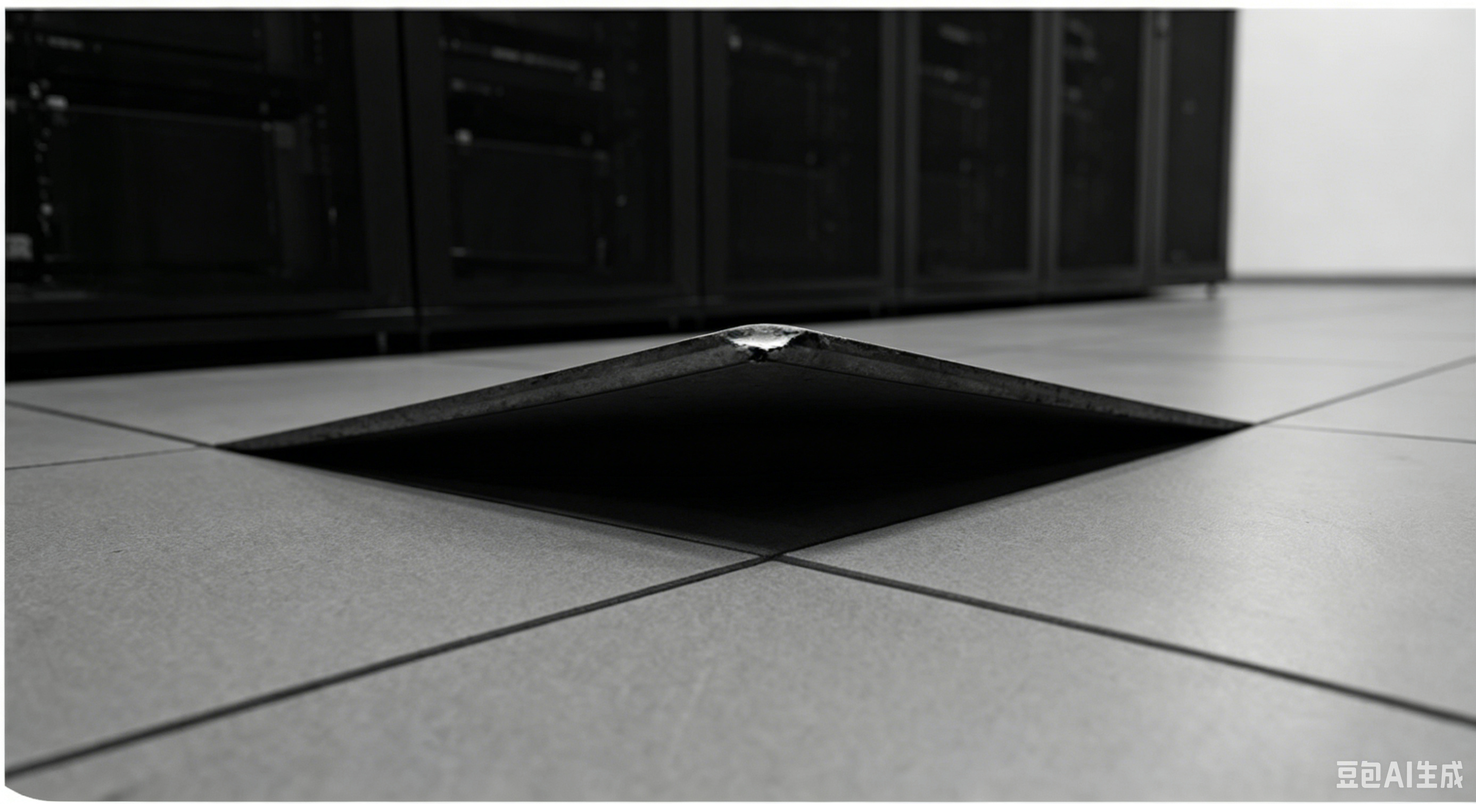floor_defect: (217, 315, 1258, 559)
